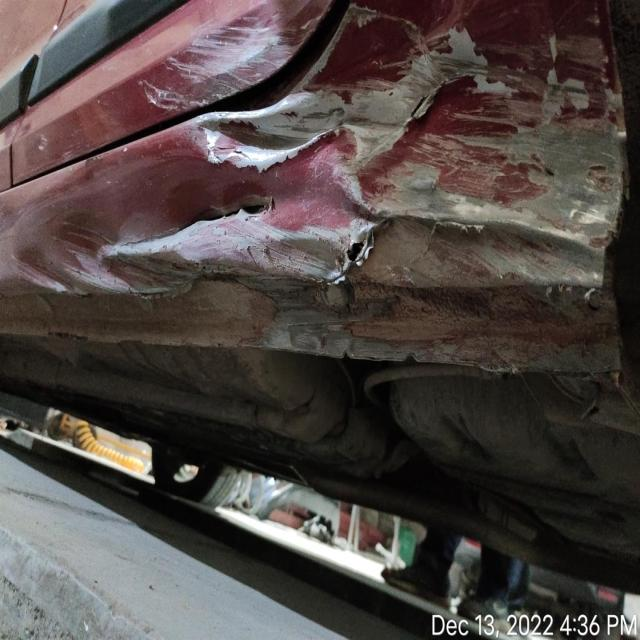damage: (79, 0, 631, 375)
